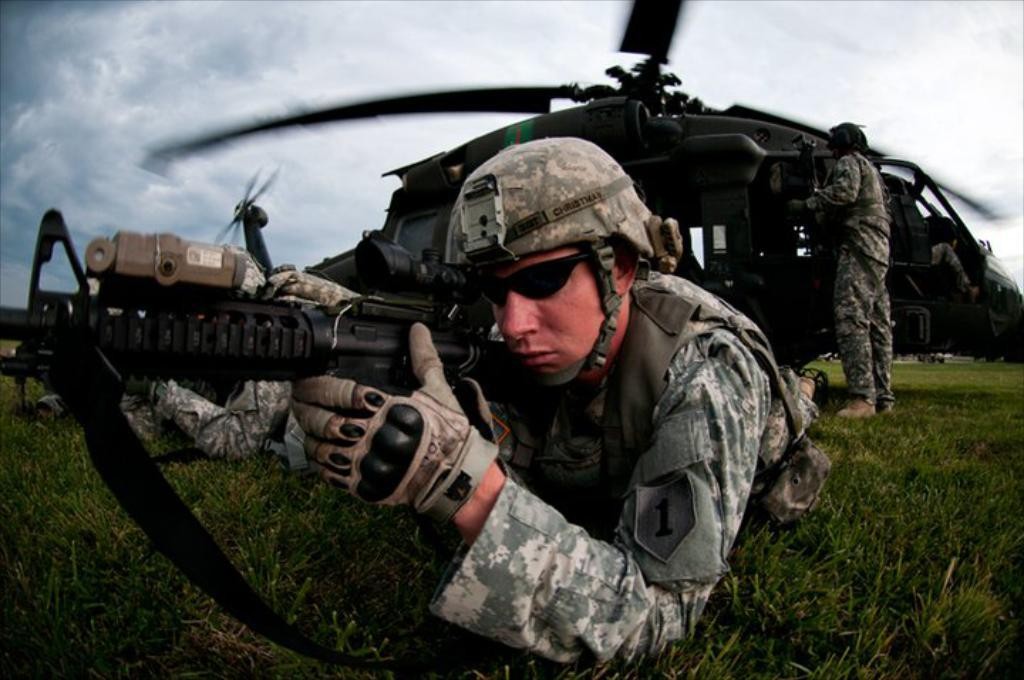Rifle: (33, 154, 676, 600)
